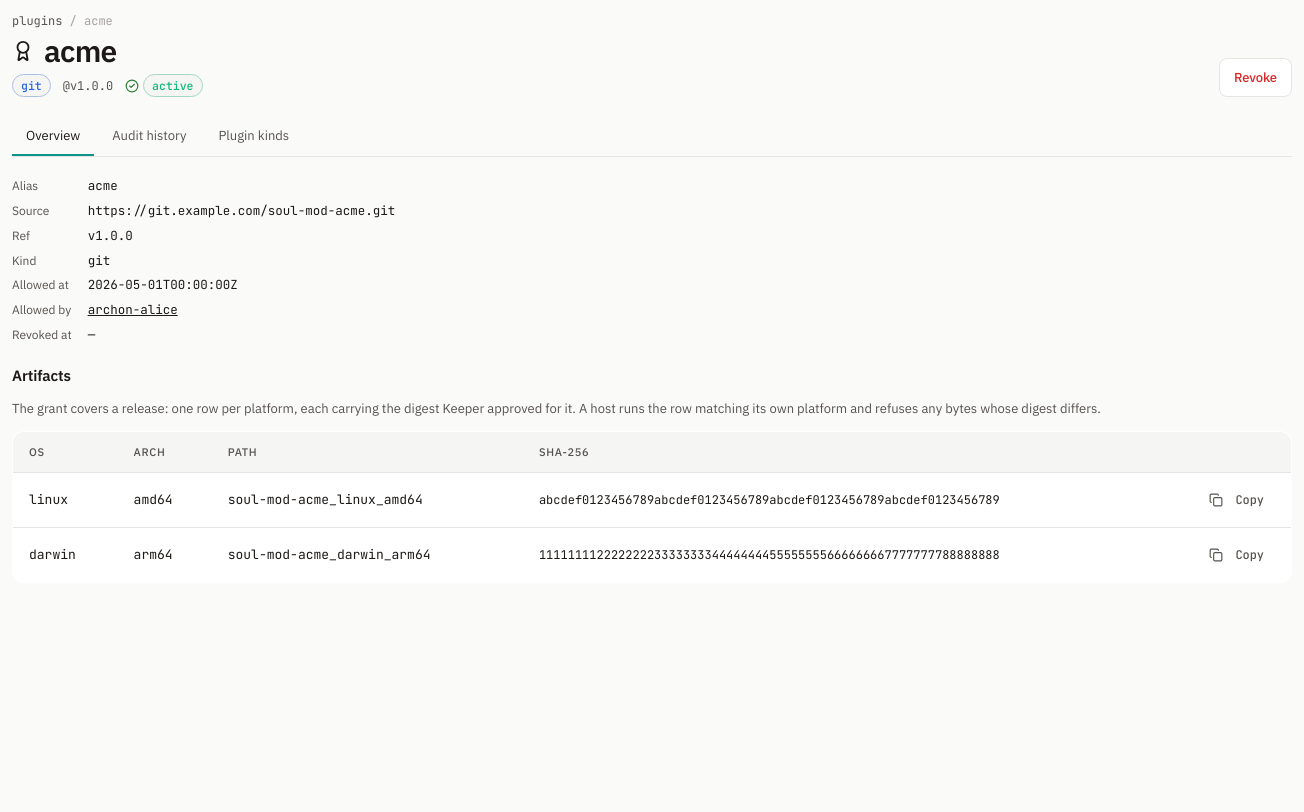
Scenario: PluginDetail › Plugin kinds tab explains how the bytes reach the host
Expected: the heading "acme" is shown, [12,31,116,70]
Click the tab "Plugin kinds" at (254,137), box [204,117,303,156]
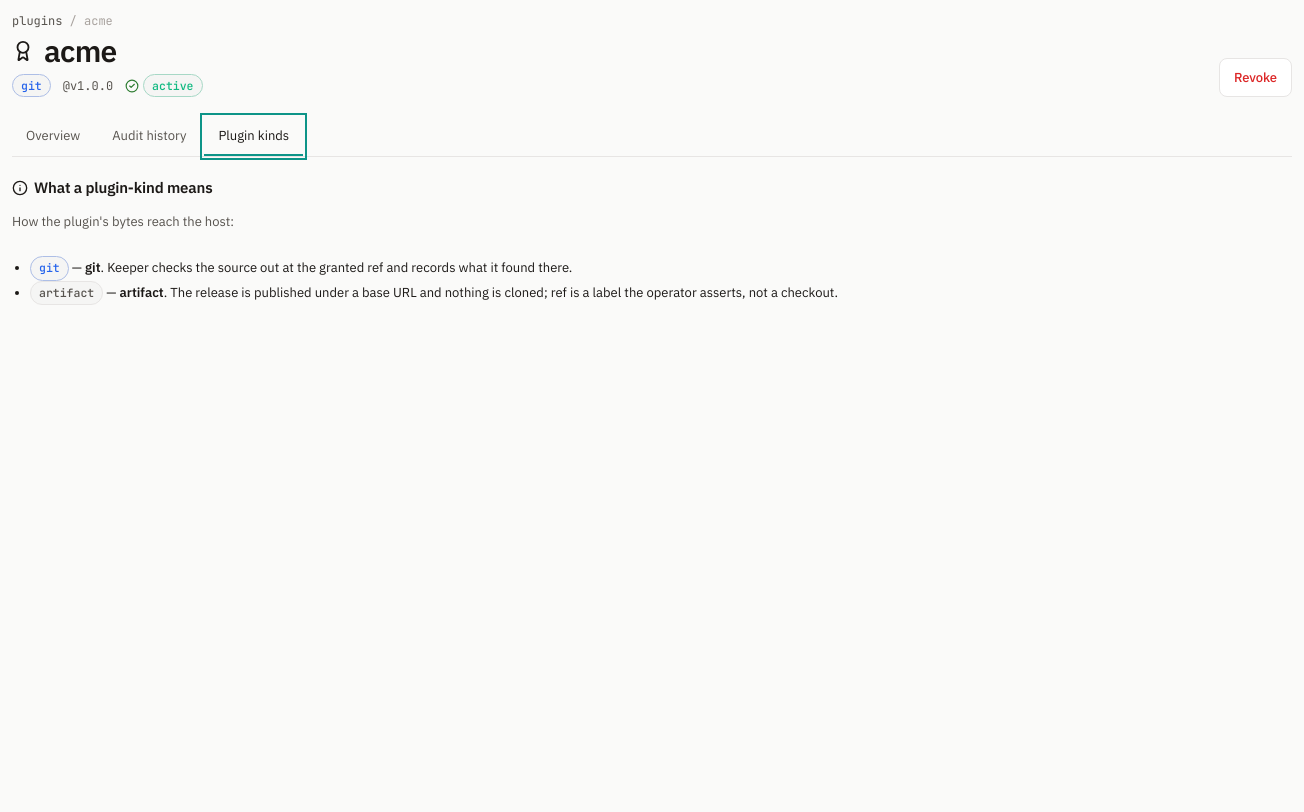
Now the list item "checks the source out at the granted ref" is shown, box [107,259,572,276]
Now the list item "published under a base URL" is shown, box [170,284,838,301]
